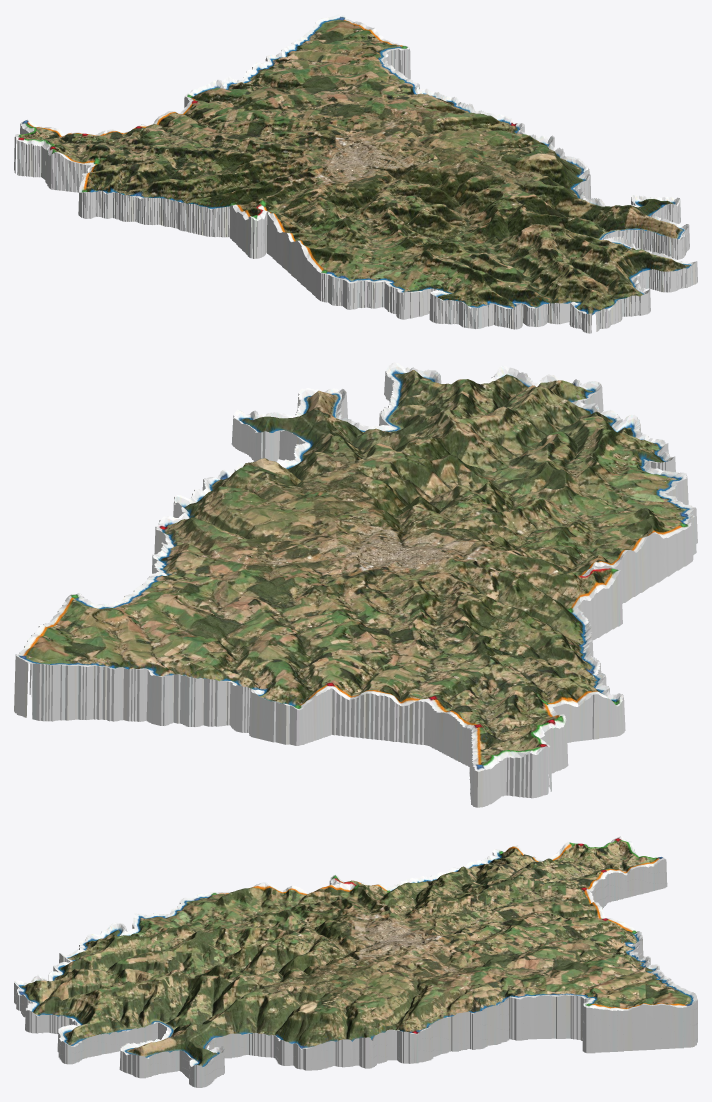
3 views of the same model, one above another, from view 1: azimuth 30°, elevation 25°; view 2: azimuth 150°, elevation 25°; view 3: azimuth 270°, elevation 25° (orthographic). The views are drawn at different scales.
Size of the model in its own units: 0.9998 by 0.0999 by 1.34.
1 material, 1 textured.
